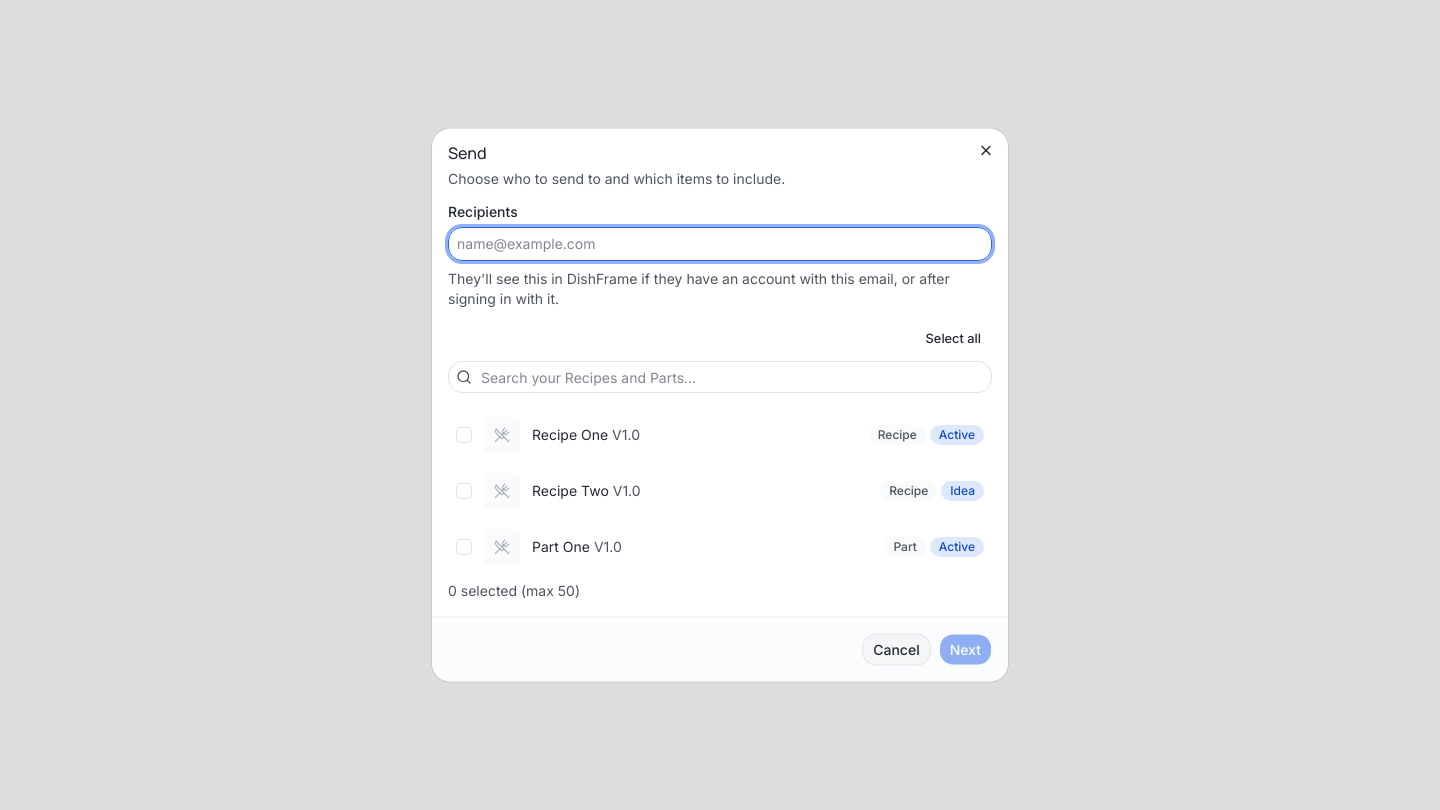
DirectShareCollectionDialog › accepts more than one recipient chip
Expected: the text "Recipe One" is shown, [532,426,608,442]
Type "a@example.invalid,b@example.invalid," into the field labelled "Recipients" at (720,244), box [457,234,983,254]
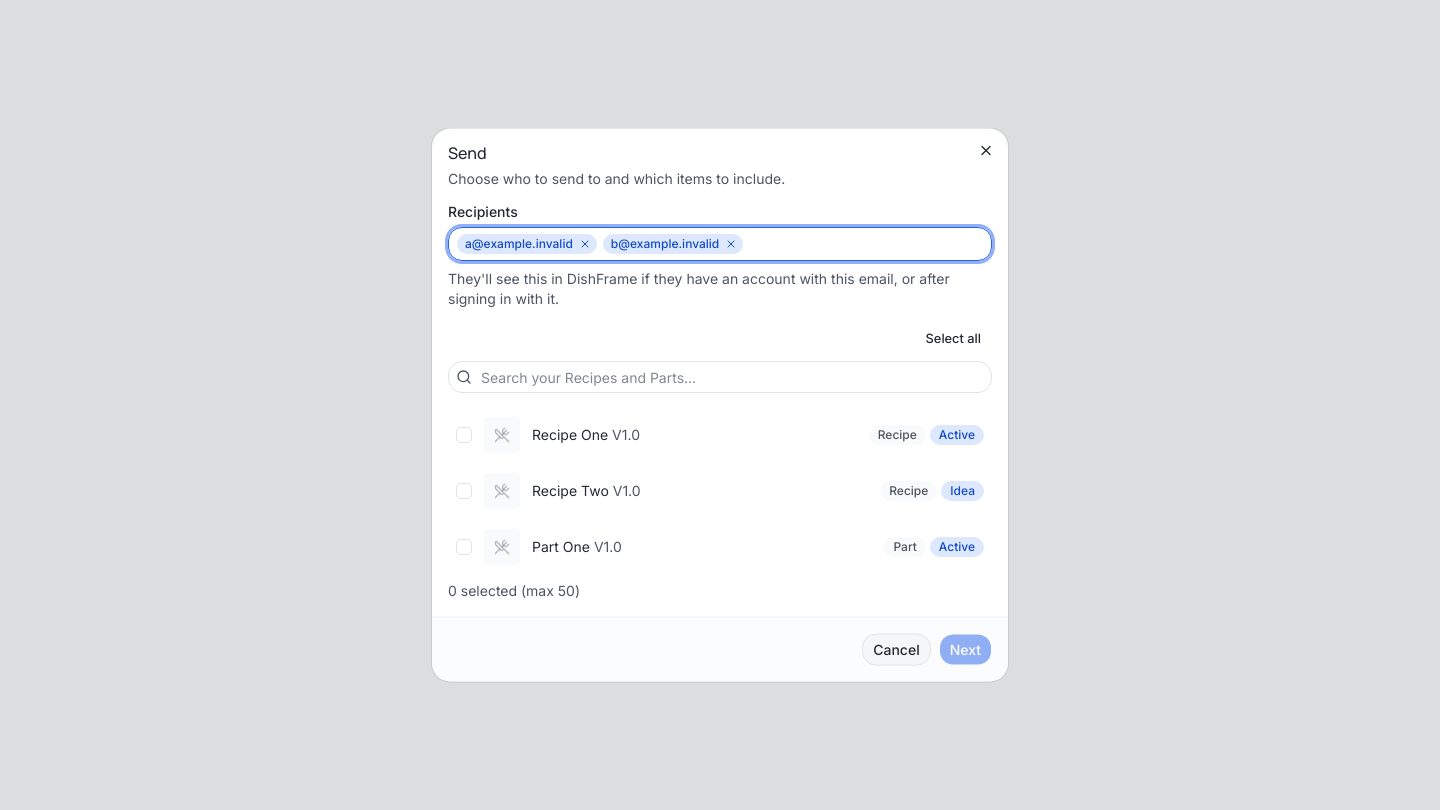
Now the text "a@example.invalid" is shown, box [457,234,597,254]
Now the text "b@example.invalid" is shown, box [603,234,743,254]
